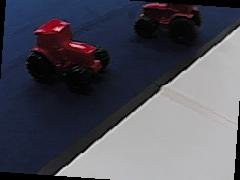Tracktor: (24, 16, 111, 87), (132, 2, 201, 39)
